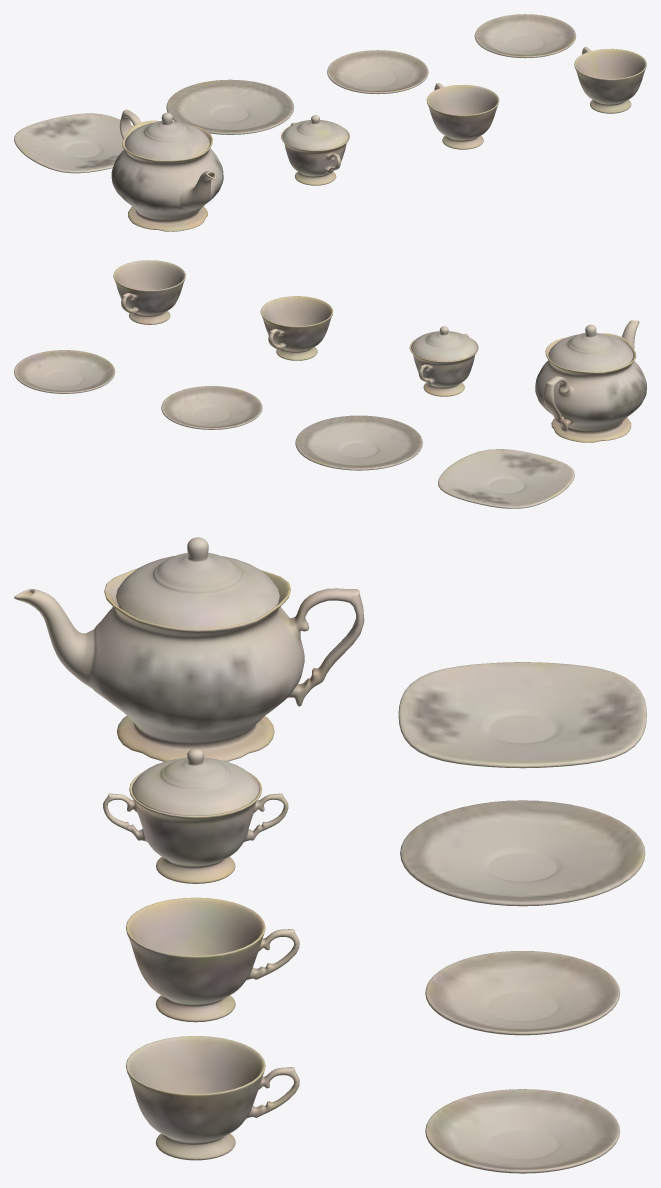
File: tea_set_01.glb
3 renders of one model, top to bottom at view 1: azimuth 30°, elevation 25°; view 2: azimuth 150°, elevation 25°; view 3: azimuth 270°, elevation 25°, orthographic. The views are drawn at different scales.
Visible parts, largest first — view 1: tea_set_01_teapot_01, tea_set_01_plate_large_circular_03, tea_set_01_plate_large_square_01, tea_set_01_cup_small_01, tea_set_01_cup_small_02, tea_set_01_saucer_circular_03, tea_set_01_saucer_circular_04, tea_set_01_teapot_01_lid, tea_set_01_sugar_cup_01, tea_set_01_sugar_cup_01_lid; view 2: tea_set_01_teapot_01, tea_set_01_plate_large_square_01, tea_set_01_plate_large_circular_03, tea_set_01_cup_small_01, tea_set_01_cup_small_02, tea_set_01_saucer_circular_04, tea_set_01_saucer_circular_03, tea_set_01_teapot_01_lid, tea_set_01_sugar_cup_01, tea_set_01_sugar_cup_01_lid; view 3: tea_set_01_teapot_01, tea_set_01_plate_large_square_01, tea_set_01_plate_large_circular_03, tea_set_01_cup_small_01, tea_set_01_cup_small_02, tea_set_01_saucer_circular_03, tea_set_01_saucer_circular_04, tea_set_01_teapot_01_lid, tea_set_01_sugar_cup_01, tea_set_01_sugar_cup_01_lid.
Part boxes in pixels (x1,y1,x2,y2): tea_set_01_teapot_01: (111, 109, 223, 231); tea_set_01_plate_large_circular_03: (166, 79, 294, 134); tea_set_01_plate_large_square_01: (14, 113, 133, 173); tea_set_01_cup_small_01: (426, 83, 499, 149); tea_set_01_cup_small_02: (574, 47, 646, 113); tea_set_01_saucer_circular_03: (474, 14, 576, 58); tea_set_01_saucer_circular_04: (327, 50, 428, 94); tea_set_01_teapot_01_lid: (125, 112, 209, 160); tea_set_01_sugar_cup_01: (281, 122, 349, 185); tea_set_01_sugar_cup_01_lid: (282, 115, 348, 150); tea_set_01_teapot_01: (535, 320, 646, 442); tea_set_01_plate_large_square_01: (438, 449, 574, 508); tea_set_01_plate_large_circular_03: (295, 415, 422, 470); tea_set_01_cup_small_01: (260, 296, 333, 360); tea_set_01_cup_small_02: (113, 260, 185, 324); tea_set_01_saucer_circular_04: (161, 386, 262, 429); tea_set_01_saucer_circular_03: (14, 350, 115, 393); tea_set_01_teapot_01_lid: (548, 324, 633, 371); tea_set_01_sugar_cup_01: (409, 333, 478, 396); tea_set_01_sugar_cup_01_lid: (411, 326, 477, 361); tea_set_01_teapot_01: (14, 568, 364, 761); tea_set_01_plate_large_square_01: (398, 662, 646, 768); tea_set_01_plate_large_circular_03: (400, 800, 645, 906); tea_set_01_cup_small_01: (125, 897, 299, 1022); tea_set_01_cup_small_02: (126, 1036, 299, 1160); tea_set_01_saucer_circular_03: (425, 1089, 620, 1173); tea_set_01_saucer_circular_04: (425, 951, 620, 1035); tea_set_01_teapot_01_lid: (116, 537, 279, 628); tea_set_01_sugar_cup_01: (103, 771, 288, 883); tea_set_01_sugar_cup_01_lid: (131, 748, 259, 815).
Size of the model in its own units: 0.9185 by 0.165 by 0.4839.
Materials: 1 (1 with a texture image).
